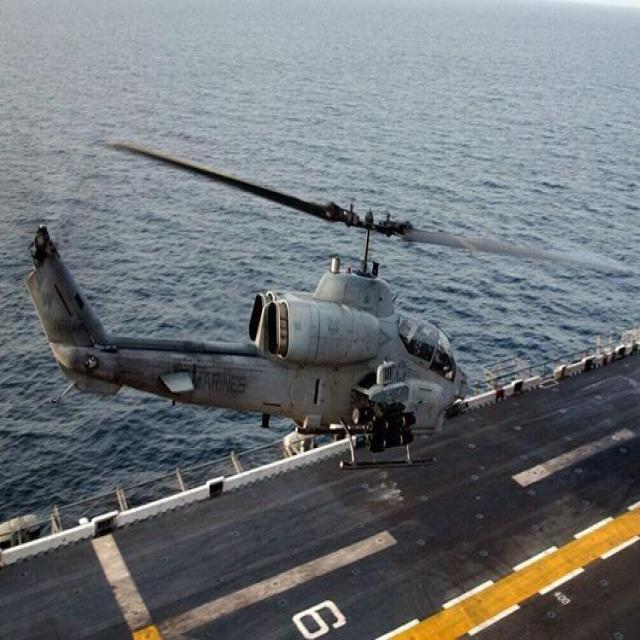MIL_HELO: (10, 128, 637, 481)
